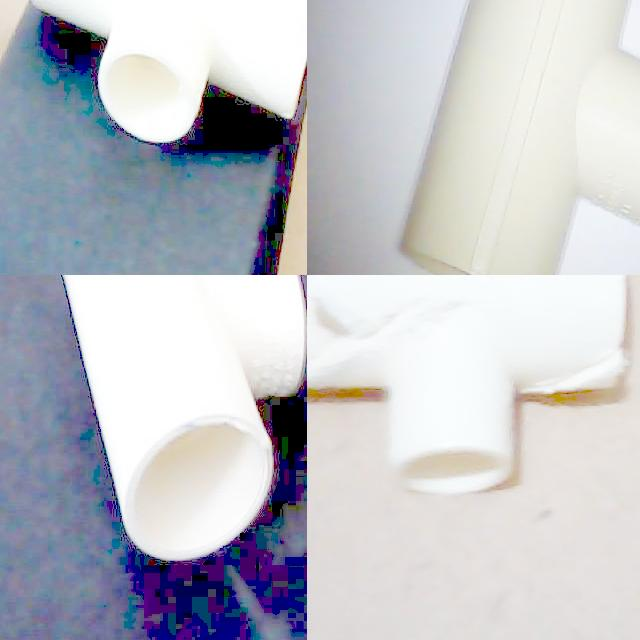Defective: (307, 275, 404, 393), (517, 334, 640, 414)
T Joint: (307, 275, 632, 499), (61, 275, 306, 565), (396, 0, 640, 275)
